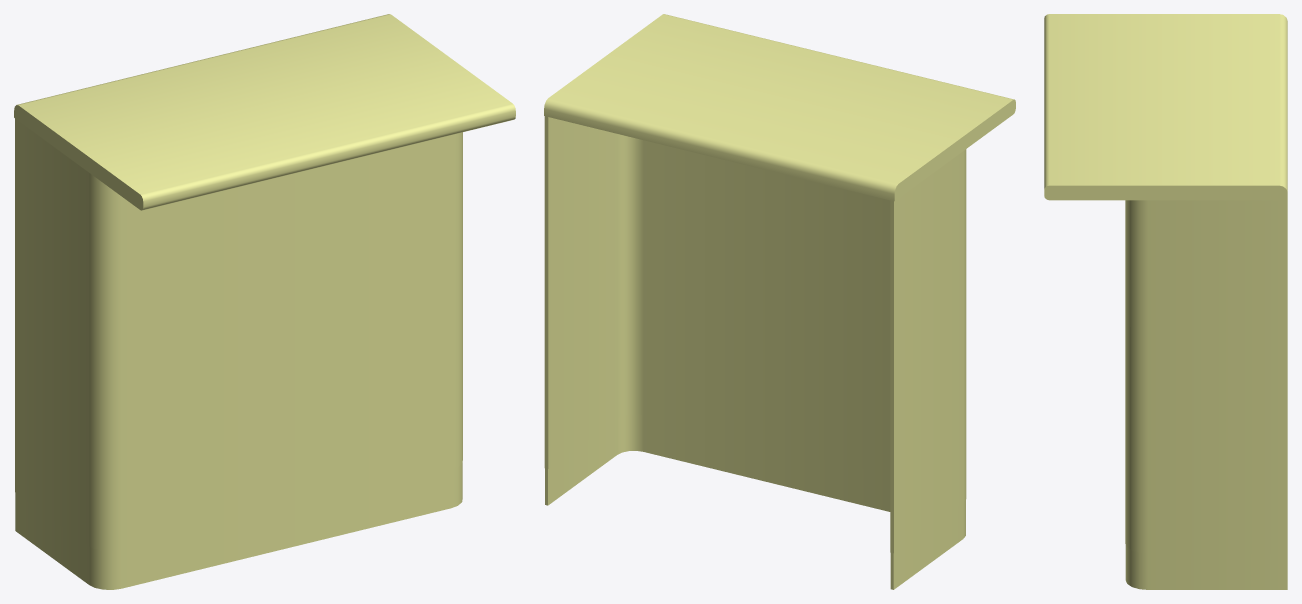
File: Shelf_4.fbx
3 views of the same model, side by side, from view 1: azimuth 30°, elevation 25°; view 2: azimuth 150°, elevation 25°; view 3: azimuth 270°, elevation 25° (orthographic). The views are drawn at different scales.
Parts seen in each view (by area): view 1: SM_Shelf_4; view 2: SM_Shelf_4; view 3: SM_Shelf_4.
Boxes of the visible parts, x1,y1,x2,y2 form: SM_Shelf_4: (14, 14, 515, 589); SM_Shelf_4: (544, 14, 1015, 589); SM_Shelf_4: (1044, 14, 1287, 589).
Bounding box in the file's own units: 100 × 110 × 60.
